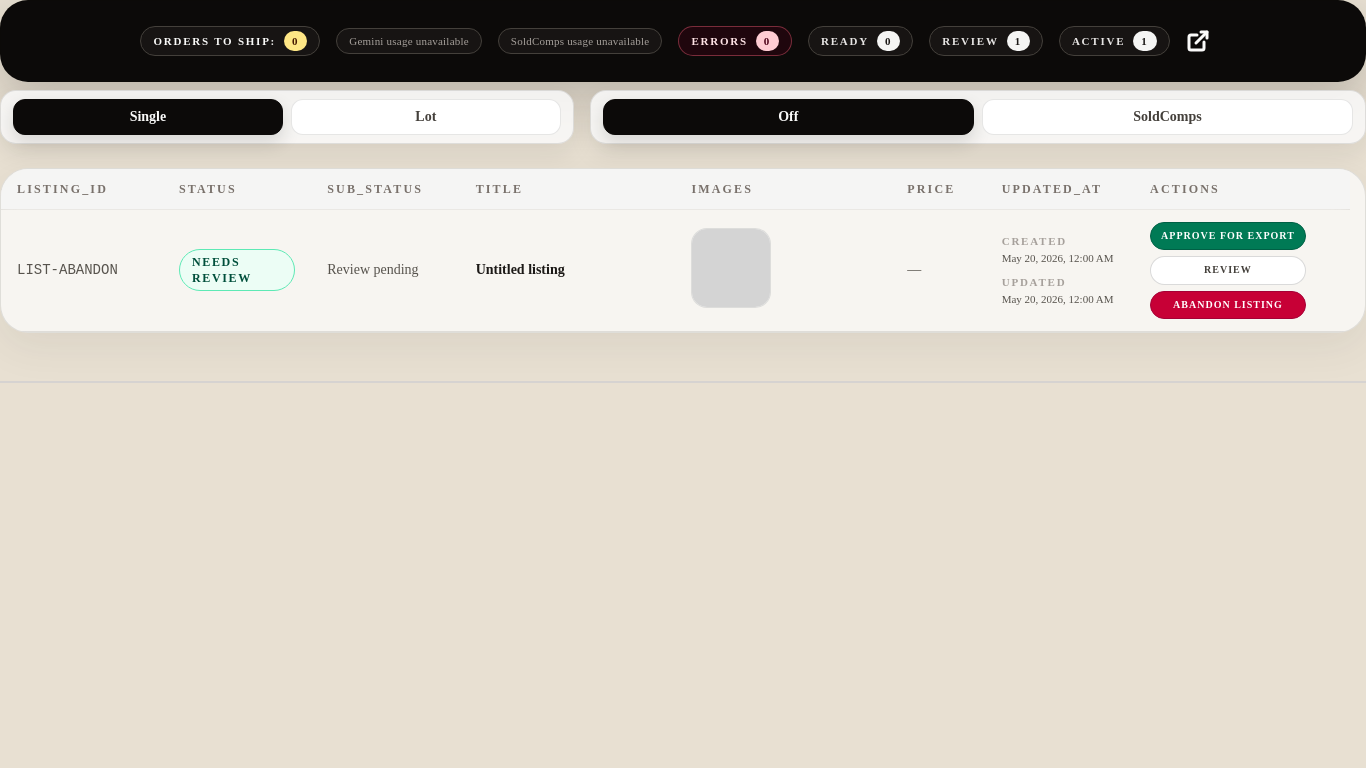
Test: ListingsRealtime › removes an abandoned listing without waiting for realtime
Click the button "Abandon Listing".
click(1228, 305)  # box 1150,291 -> 1306,319
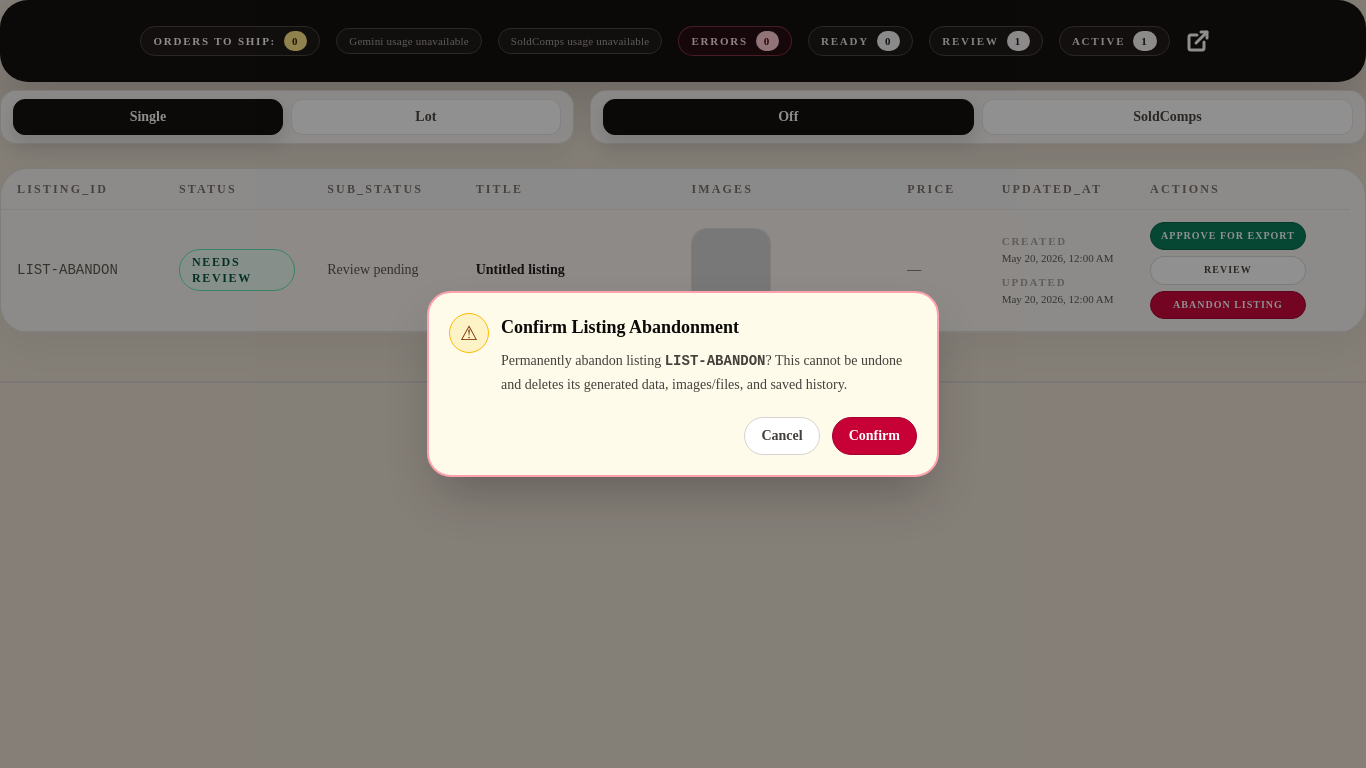
Click the button "Confirm".
click(874, 436)  # box 832,417 -> 917,455
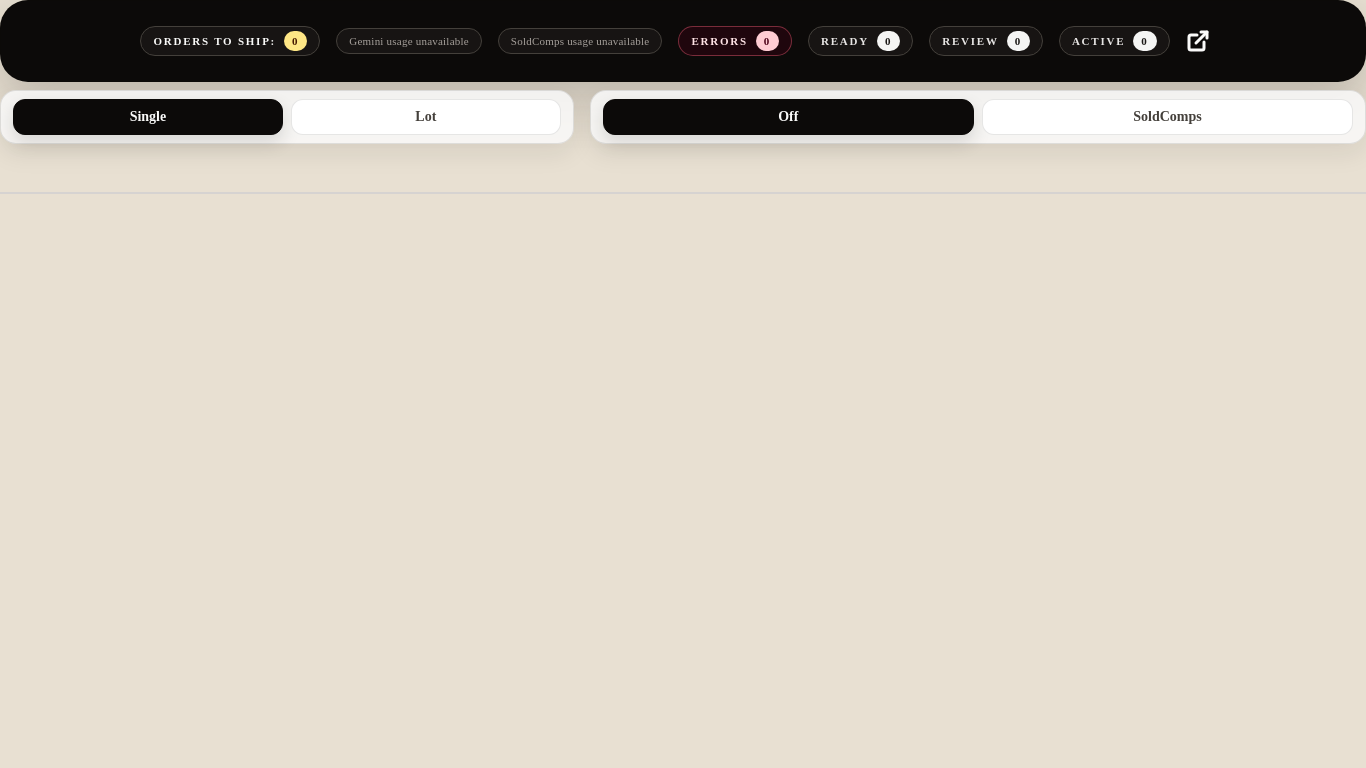
Check: the text "LIST-ABANDON" is gone
